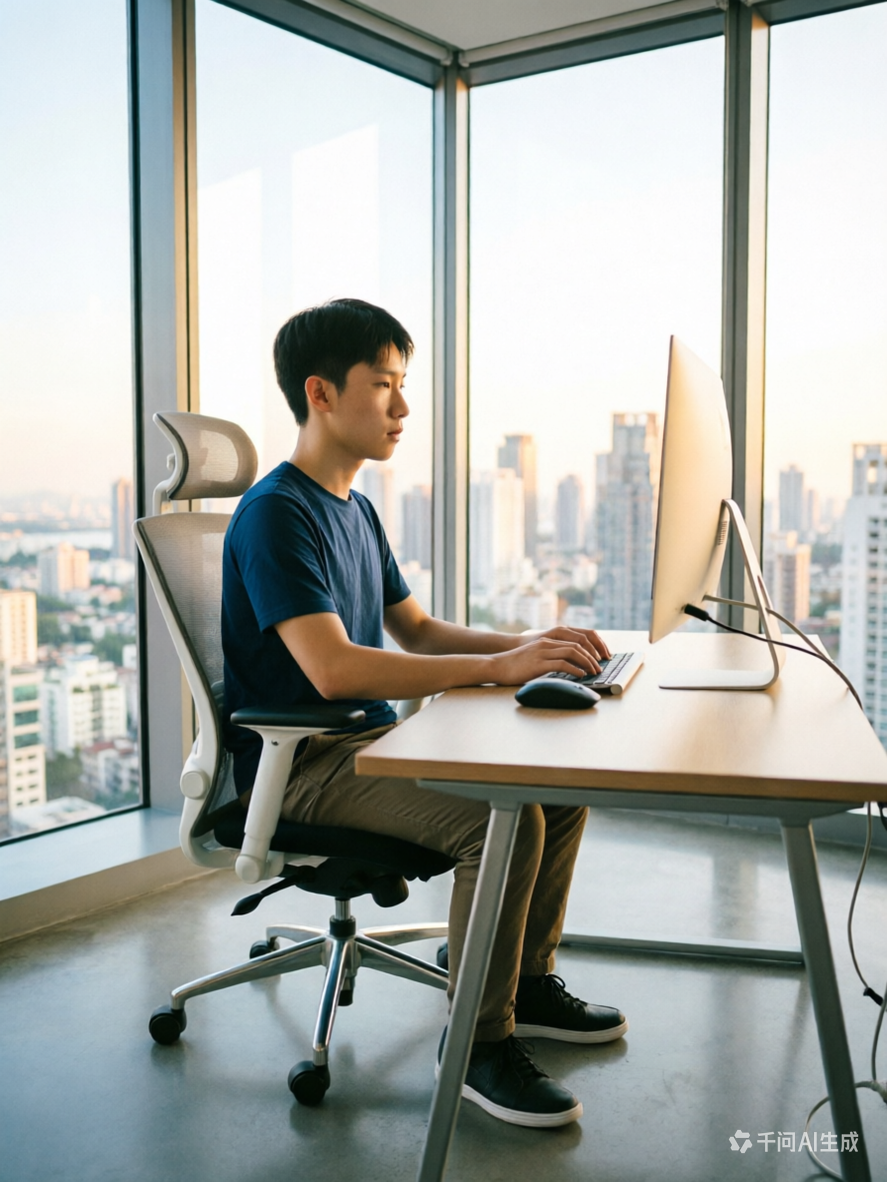sitting_good: (221, 300, 622, 1116)
